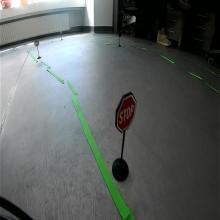stop: (114, 91, 136, 133)
